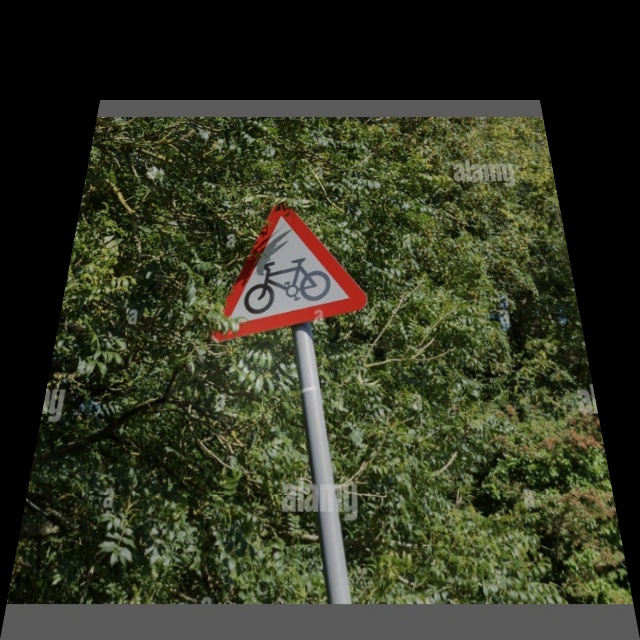Cycle_Crossing: (217, 201, 374, 332)
